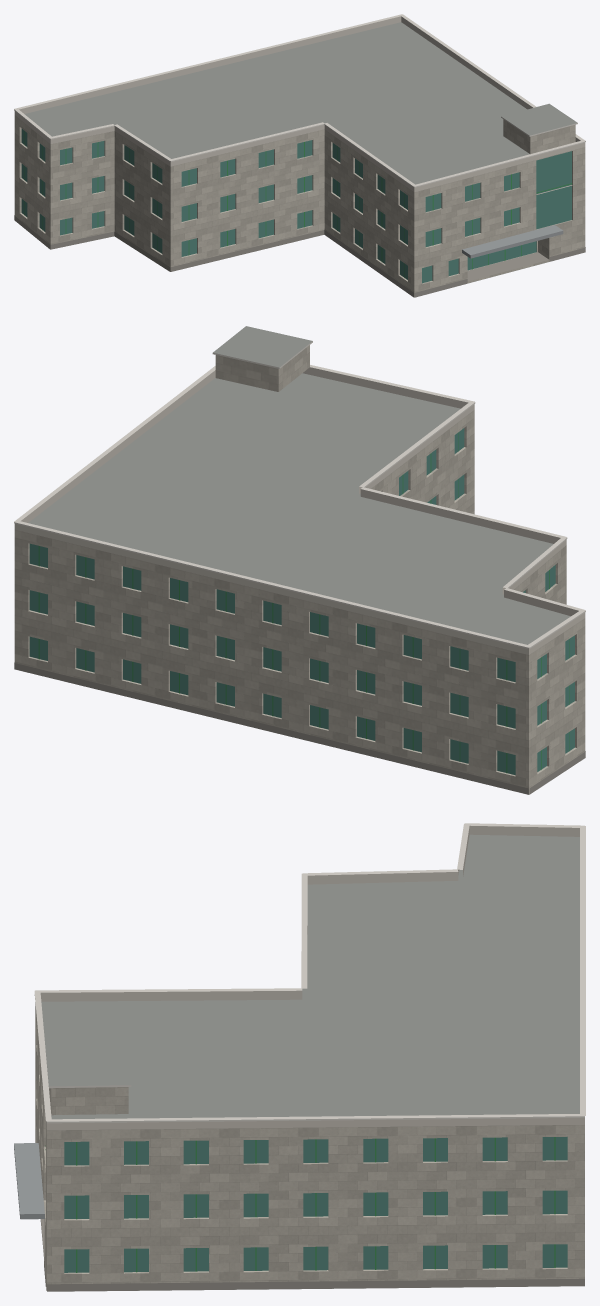
3 renders of one model, top to bottom at view 1: azimuth 30°, elevation 25°; view 2: azimuth 150°, elevation 25°; view 3: azimuth 270°, elevation 25°, orthographic. The views are drawn at different scales.
Visible parts, largest first — view 1: lakeside__wall, lakeside__roof, lakeside__glass, lakeside__parapet, lakeside__trim, lakeside__base, lakeside__canopy, lakeside__frame; view 2: lakeside__roof, lakeside__wall, lakeside__glass, lakeside__parapet, lakeside__trim, lakeside__base, lakeside__frame; view 3: lakeside__roof, lakeside__wall, lakeside__glass, lakeside__parapet, lakeside__trim, lakeside__base, lakeside__canopy, lakeside__frame.
Part boxes in pixels (bbox=[...]): lakeside__wall: bbox=[14, 115, 585, 297]; lakeside__roof: bbox=[24, 22, 577, 283]; lakeside__glass: bbox=[21, 129, 571, 283]; lakeside__parapet: bbox=[14, 16, 585, 192]; lakeside__trim: bbox=[14, 14, 585, 187]; lakeside__base: bbox=[14, 215, 585, 297]; lakeside__canopy: bbox=[462, 225, 563, 258]; lakeside__frame: bbox=[24, 131, 572, 277]; lakeside__roof: bbox=[28, 326, 570, 794]; lakeside__wall: bbox=[14, 345, 585, 794]; lakeside__glass: bbox=[29, 428, 574, 775]; lakeside__parapet: bbox=[14, 367, 585, 654]; lakeside__trim: bbox=[14, 341, 585, 648]; lakeside__base: bbox=[14, 662, 585, 794]; lakeside__frame: bbox=[38, 432, 569, 773]; lakeside__roof: bbox=[41, 834, 579, 1291]; lakeside__wall: bbox=[35, 1004, 584, 1290]; lakeside__glass: bbox=[64, 1136, 567, 1272]; lakeside__parapet: bbox=[40, 825, 584, 1130]; lakeside__trim: bbox=[34, 823, 585, 1123]; lakeside__base: bbox=[41, 1219, 584, 1291]; lakeside__canopy: bbox=[14, 1143, 44, 1219]; lakeside__frame: bbox=[45, 1137, 555, 1272].
Bounding box in the file's own units: 42.93 × 13.42 × 34.75.
9 materials, 1 textured.
